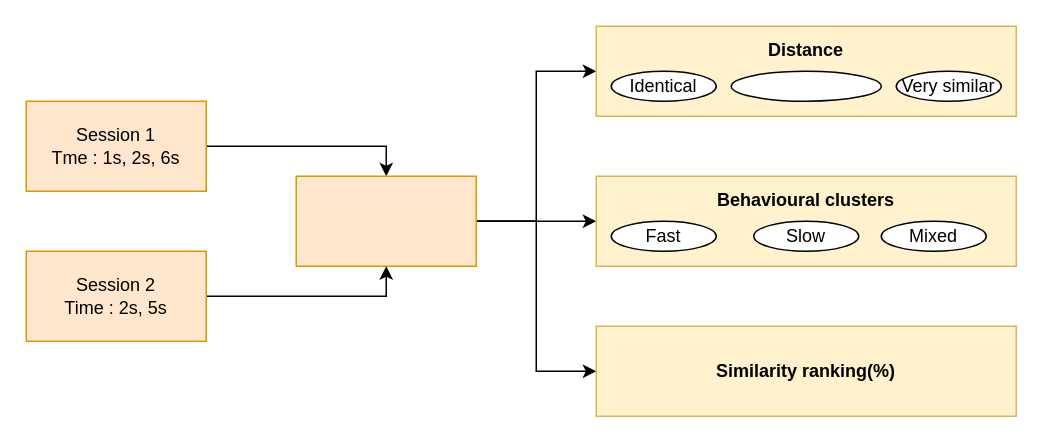
This 1043x443 diagram has some shape labels left out. Here are the shapes that lost their labels. From the top down, the centre of each, then its label:
At point 805,85: "Very different".
At point 385,220: "DTW algorithm".
